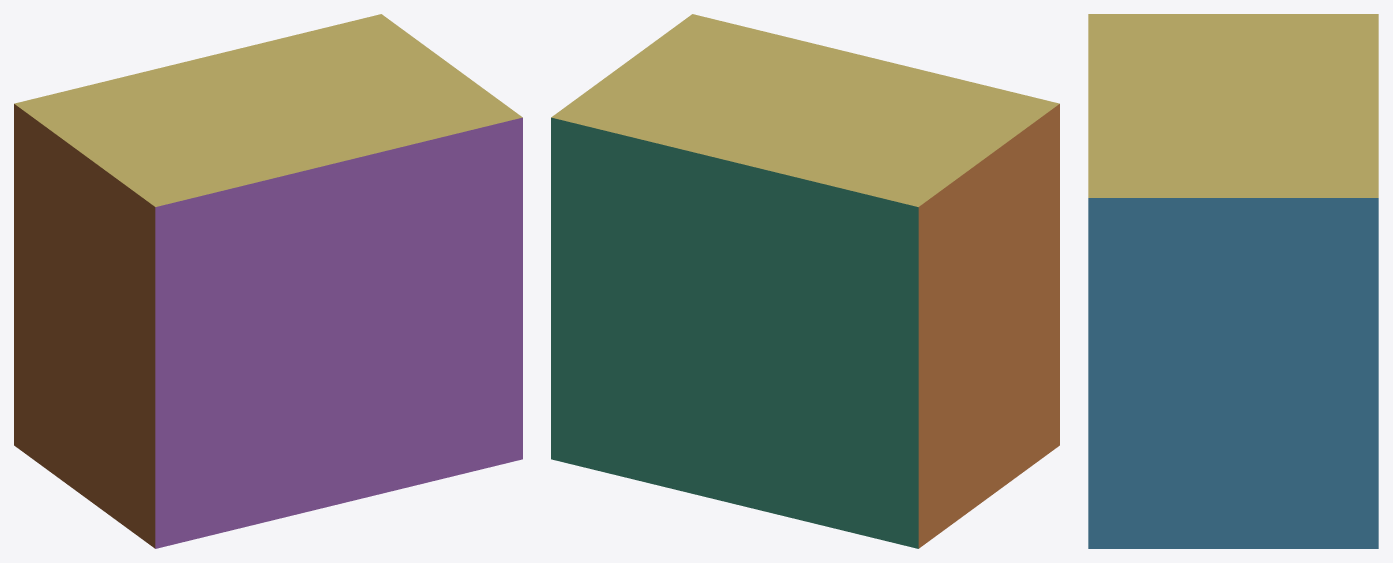
File: building.gltf
3 renders of one model, left to right at view 1: azimuth 30°, elevation 25°; view 2: azimuth 150°, elevation 25°; view 3: azimuth 270°, elevation 25°, orthographic. The views are drawn at different scales.
Parts seen in each view (by area): view 1: Synthetic 18 x 12 x 16 m building; view 2: Synthetic 18 x 12 x 16 m building; view 3: Synthetic 18 x 12 x 16 m building.
Boxes of the visible parts, x1,y1,x2,y2 form: Synthetic 18 x 12 x 16 m building: (14, 14, 522, 548); Synthetic 18 x 12 x 16 m building: (551, 14, 1059, 548); Synthetic 18 x 12 x 16 m building: (1088, 14, 1378, 548).
Bounding box in the file's own units: 18 × 16 × 12.
